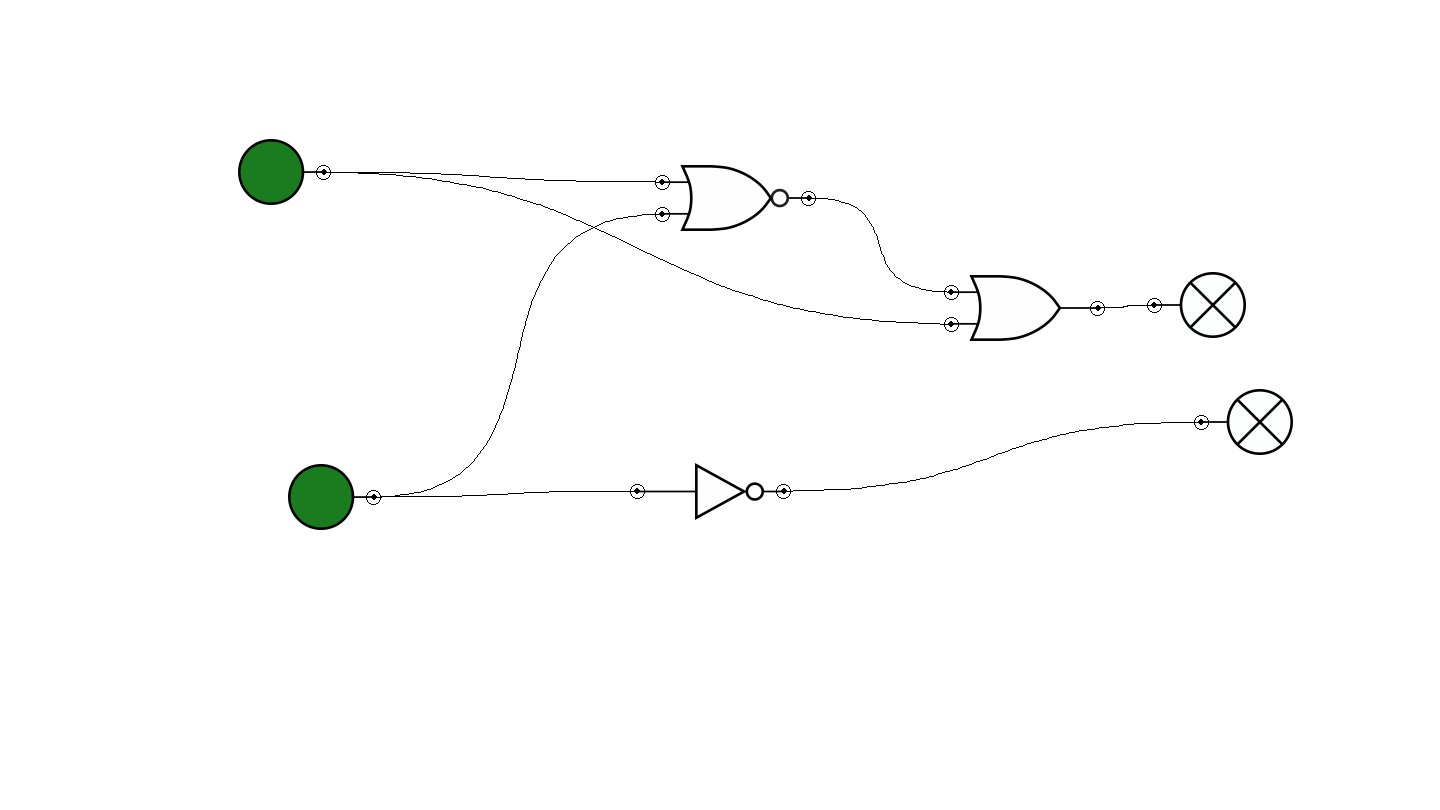bulb: (1147, 272, 1246, 338), (1194, 389, 1293, 455)
nor: (655, 165, 816, 231)
not: (630, 463, 791, 520)
or: (944, 275, 1105, 341)
switch_True: (238, 139, 331, 205), (288, 464, 381, 530)
